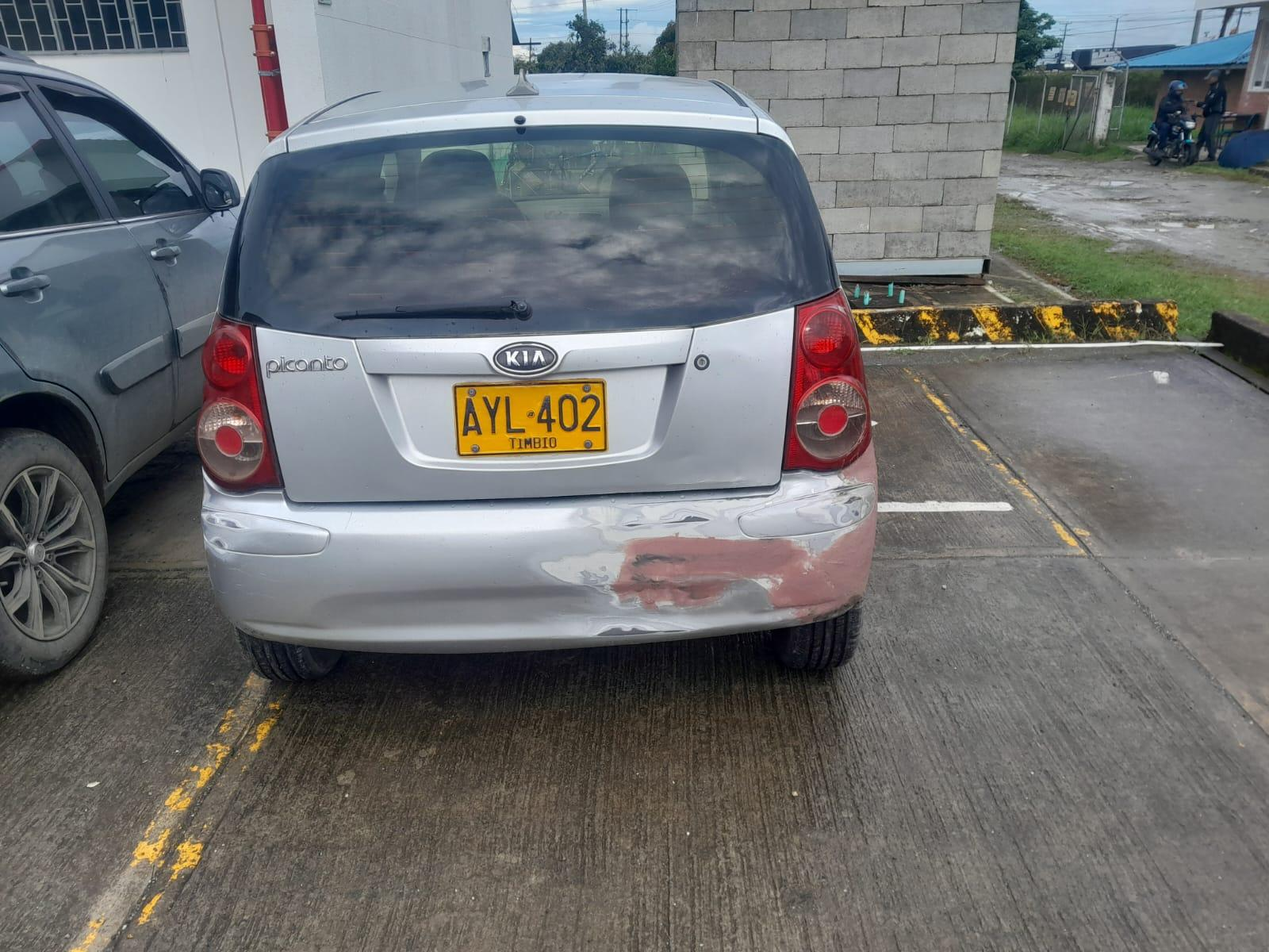placa: (454, 380, 608, 458)
